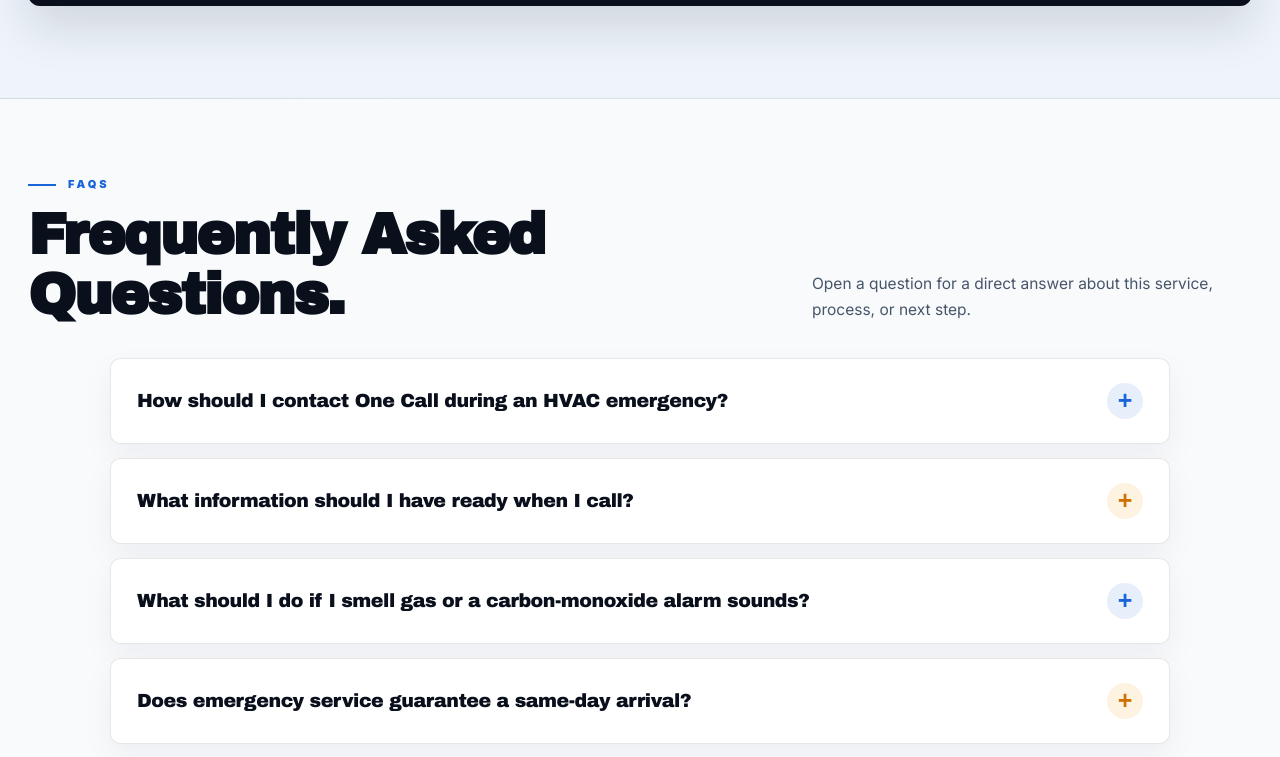
it: page answer sections › renders /emergency answers visibly and mirrors them in structured data
(page scrolled)
Click the button "How should I contact One Call during an HVAC emergency?". click: coordinates (640, 401)
box: [111,359,1169,443]
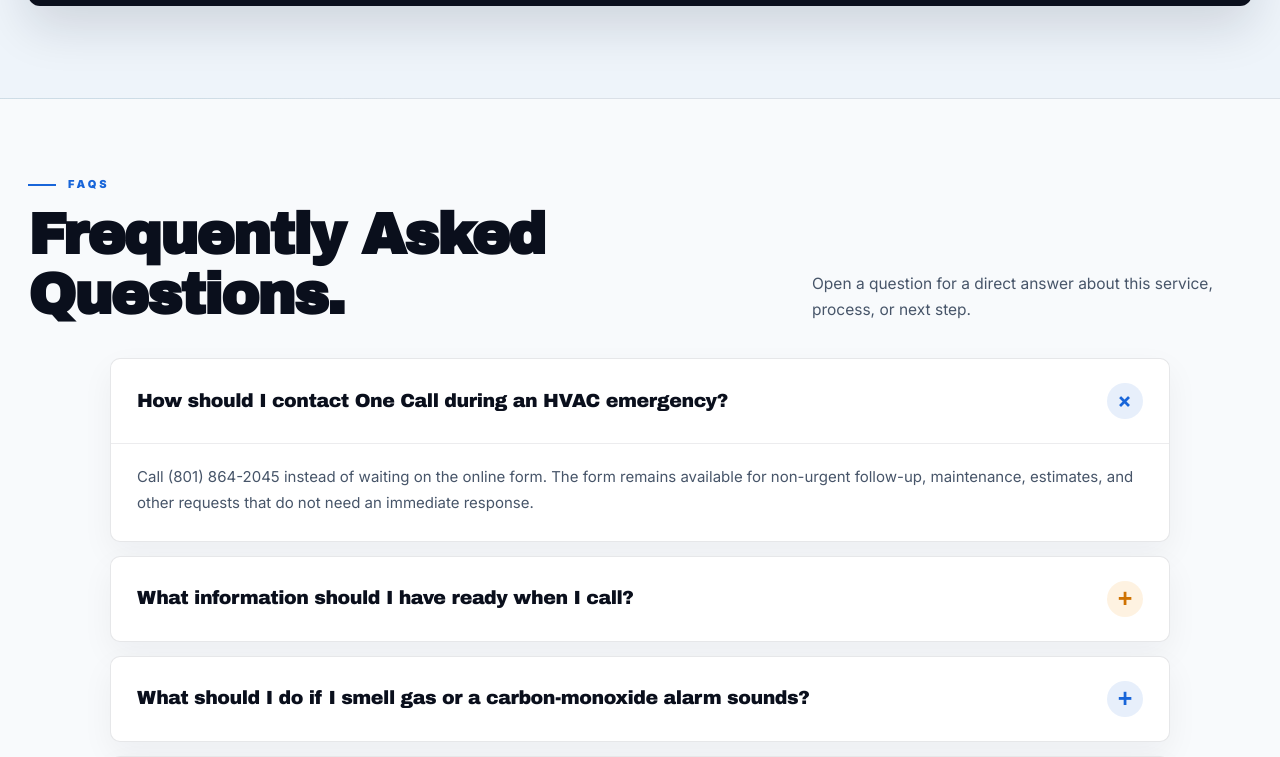
Expected: the button "How should I contact One Call during an HVAC emergency?" is expanded, [111,359,1169,443]
